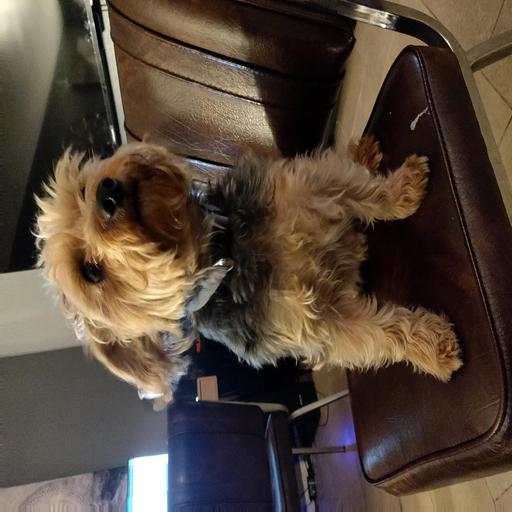dog: (47, 131, 298, 382)
